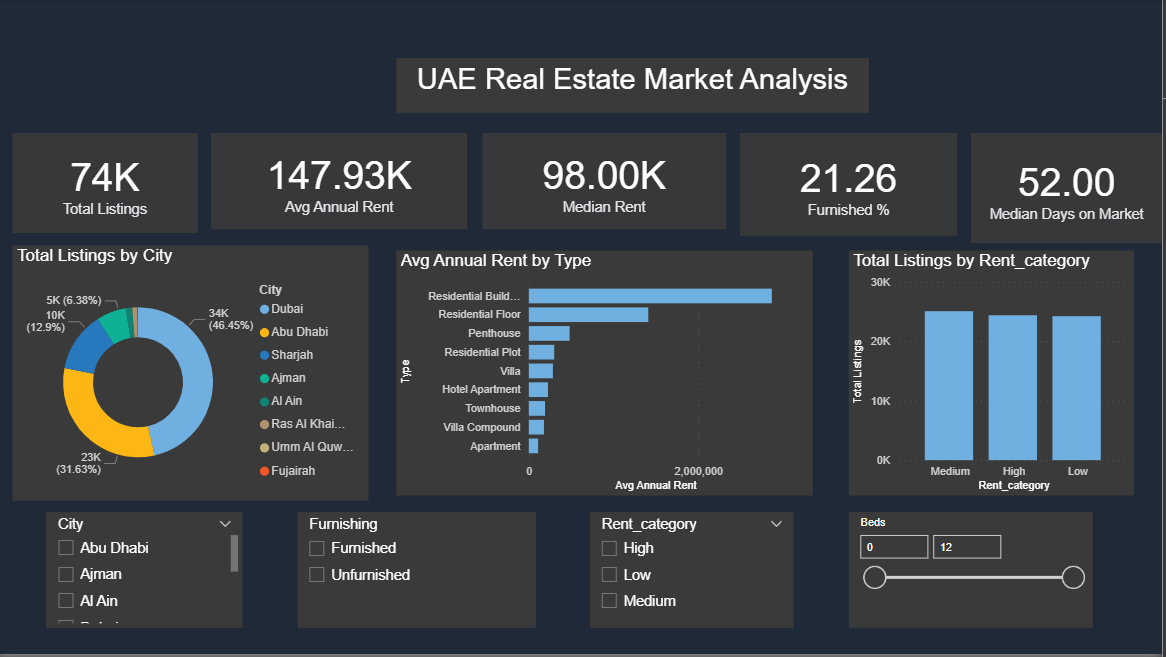

This screenshot's page, from the dashboard's own definition file:
{"tool":"powerbi","page":{"name":"Executive Summary","canvas":[1280,720],"ordinal":0},"visuals":[{"type":"card","fields":{"Values":["uae_properties_clean.Total Listings"]},"box":[19.2,148.1,202.9,109.7],"z":0},{"type":"card","fields":{"Values":["uae_properties_clean.Avg Annual Rent"]},"box":[237.2,148.1,281.1,105.6],"z":1000},{"type":"card","fields":{"Values":["uae_properties_clean.Median Rent"]},"box":[534,148.1,267.4,105.6],"z":2000},{"type":"card","fields":{"Values":["uae_properties_clean.Furnished %"]},"box":[816.8,148.1,238.6,112.4],"z":3000},{"type":"card","fields":{"Values":["uae_properties_clean.Median Days on Market"]},"box":[1070.2,148.1,209.8,120.7],"z":4000},{"type":"donutChart","fields":{"Category":["uae_properties_clean.City"],"Y":["uae_properties_clean.Total Listings"]},"box":[19.2,271.9,390.7,279.7],"z":5000},{"type":"clusteredBarChart","fields":{"Category":["uae_properties_clean.Type"],"Y":["uae_properties_clean.Avg Annual Rent"]},"box":[440.1,277.4,456.6,268.7],"z":6000},{"type":"columnChart","fields":{"Category":["uae_properties_clean.Rent_category"],"Y":["uae_properties_clean.Total Listings"]},"box":[936.4,277.4,312.6,268.7],"z":7000},{"type":"slicer","fields":{"Values":["uae_properties_clean.City"]},"box":[56.2,563.5,215.3,127.5],"z":8000},{"type":"slicer","fields":{"Values":["uae_properties_clean.Furnishing"]},"box":[331.8,563.5,261.9,127.5],"z":9000},{"type":"slicer","fields":{"Values":["uae_properties_clean.Rent_category"]},"box":[652.6,563.5,223.5,127.5],"z":10000},{"type":"slicer","fields":{"Values":["uae_properties_clean.Beds"]},"box":[936.4,563.5,267.4,127.5],"z":11000},{"type":"textbox","box":[440.1,65.8,518.3,60.3],"z":12000}]}

Visuals, with their boxes in screenshot pixels (x1, y1, x2, y2), scaled from the page's 1280x720 canvas onto the 1166x657 screenshot:
card - uae_properties_clean.Total Listings: [17, 135, 202, 235]
card - uae_properties_clean.Avg Annual Rent: [216, 135, 472, 232]
card - uae_properties_clean.Median Rent: [486, 135, 730, 232]
card - uae_properties_clean.Furnished %: [744, 135, 961, 238]
card - uae_properties_clean.Median Days on Market: [975, 135, 1165, 245]
donutChart - uae_properties_clean.City x uae_properties_clean.Total Listings: [17, 248, 373, 503]
clusteredBarChart - uae_properties_clean.Type x uae_properties_clean.Avg Annual Rent: [401, 253, 817, 498]
columnChart - uae_properties_clean.Rent_category x uae_properties_clean.Total Listings: [853, 253, 1138, 498]
slicer - uae_properties_clean.City: [51, 514, 247, 631]
slicer - uae_properties_clean.Furnishing: [302, 514, 541, 631]
slicer - uae_properties_clean.Rent_category: [594, 514, 798, 631]
slicer - uae_properties_clean.Beds: [853, 514, 1097, 631]
textbox: [401, 60, 873, 115]
